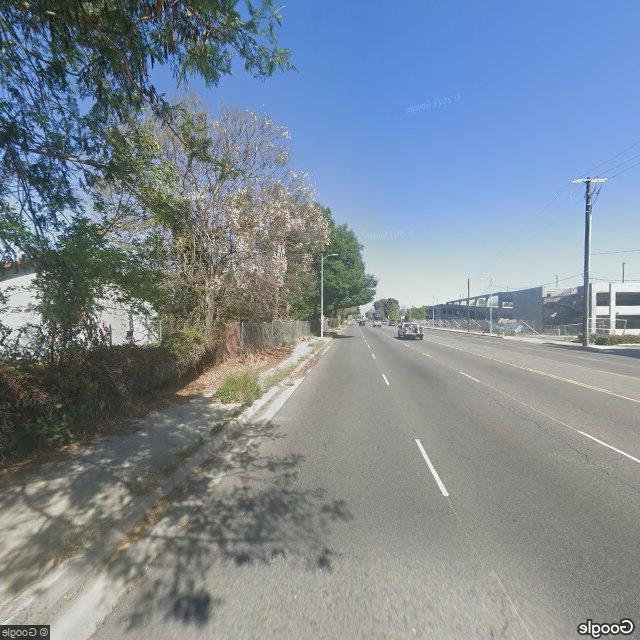pothole: (481, 392, 635, 487)
